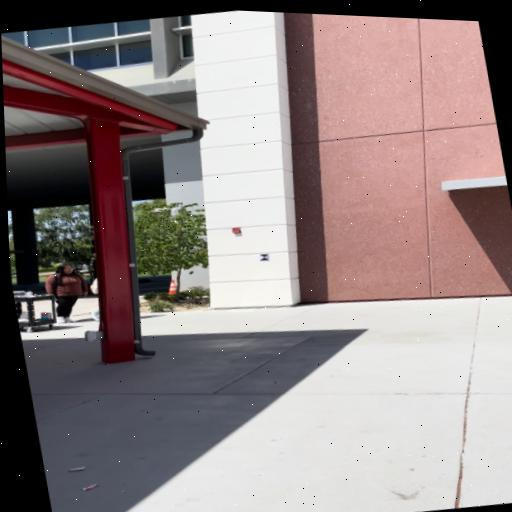target6: (259, 254, 270, 261)
